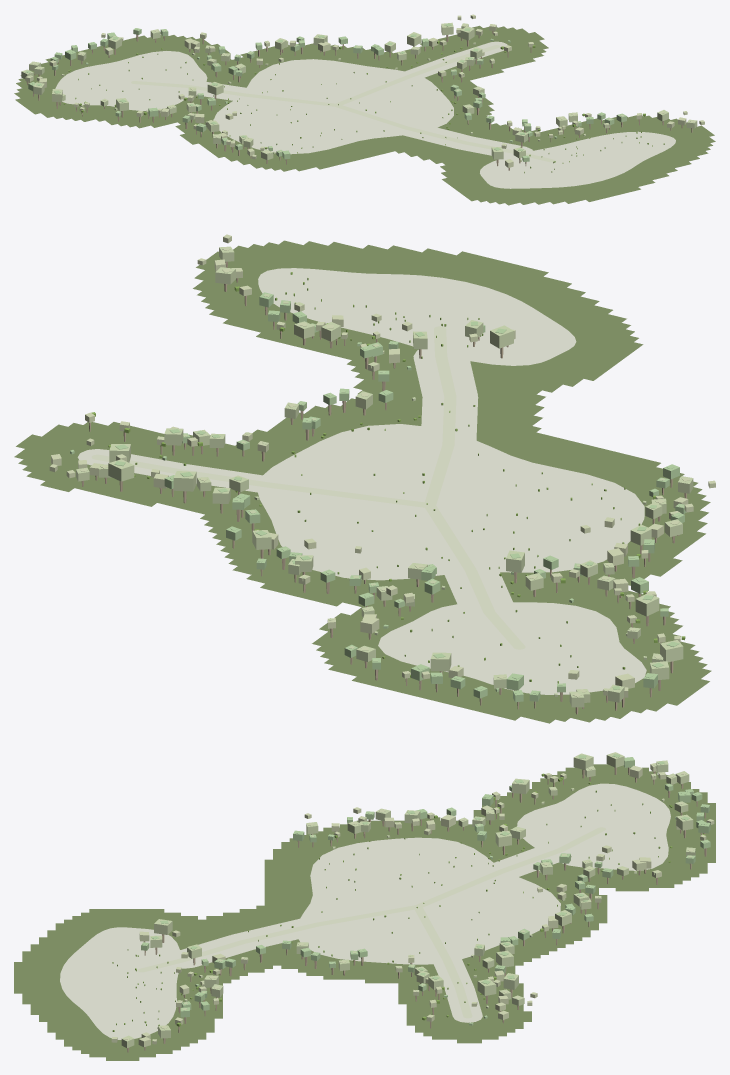
The model's file is pradera_oeste.glb.
3 views of the same model, one above another, from view 1: azimuth 30°, elevation 25°; view 2: azimuth 150°, elevation 25°; view 3: azimuth 270°, elevation 25° (orthographic). The views are drawn at different scales.
Parts seen in each view (by area): view 1: PraderaOesteForestFloor, ValleMeadow, LaderaMeadow, BosquecitoMeadow, LaderaLinkMeadow, LaderaPath, EntradaMeadow, EntradaPath, BosquecitoPath, BosquecitoLinkMeadow; view 2: PraderaOesteForestFloor, ValleMeadow, LaderaMeadow, BosquecitoMeadow, LaderaLinkMeadow, BosquecitoLinkMeadow, LaderaPath, BosquecitoPath, EntradaPath, EntradaMeadow; view 3: PraderaOesteForestFloor, ValleMeadow, LaderaMeadow, BosquecitoMeadow, LaderaLinkMeadow, EntradaMeadow, LaderaPath, BosquecitoLinkMeadow, BosquecitoPath, EntradaPath.
Part boxes in pixels (x1,y1,x2,y2): PraderaOesteForestFloor: [14, 25, 715, 205]; ValleMeadow: [213, 59, 453, 154]; LaderaMeadow: [480, 131, 675, 188]; BosquecitoMeadow: [55, 51, 207, 110]; LaderaLinkMeadow: [403, 127, 534, 159]; LaderaPath: [336, 105, 555, 162]; EntradaMeadow: [401, 41, 507, 80]; EntradaPath: [333, 45, 500, 106]; BosquecitoPath: [131, 81, 334, 106]; BosquecitoLinkMeadow: [170, 79, 258, 101]; PraderaOesteForestFloor: [14, 240, 711, 723]; ValleMeadow: [258, 424, 644, 580]; LaderaMeadow: [258, 268, 576, 365]; BosquecitoMeadow: [378, 602, 646, 694]; LaderaLinkMeadow: [413, 345, 478, 456]; BosquecitoLinkMeadow: [443, 558, 517, 624]; LaderaPath: [425, 326, 456, 505]; BosquecitoPath: [425, 506, 525, 649]; EntradaPath: [91, 454, 435, 508]; EntradaMeadow: [77, 449, 285, 493]; PraderaOesteForestFloor: [14, 764, 715, 1060]; ValleMeadow: [295, 837, 560, 964]; LaderaMeadow: [60, 927, 180, 1039]; BosquecitoMeadow: [517, 783, 670, 870]; LaderaLinkMeadow: [163, 916, 338, 968]; EntradaMeadow: [432, 954, 482, 1022]; LaderaPath: [137, 905, 417, 972]; BosquecitoLinkMeadow: [480, 841, 580, 880]; BosquecitoPath: [415, 827, 605, 907]; EntradaPath: [414, 906, 472, 1018].
Bounding box in the file's own units: 168 × 5.88 × 168.
